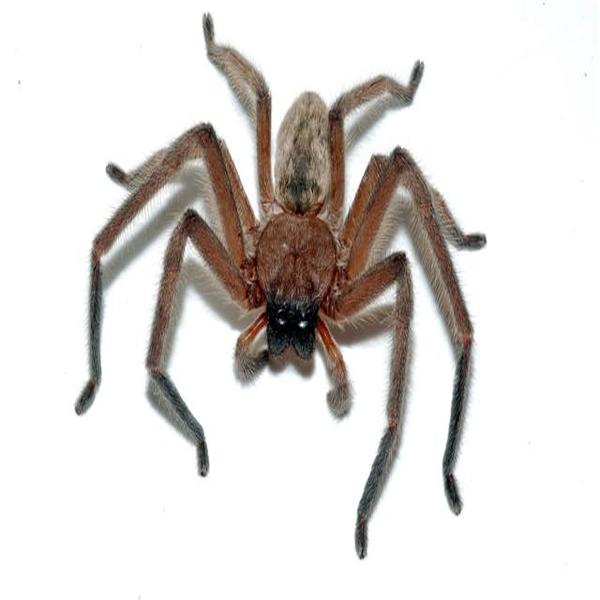Huntsman Spider: (78, 15, 491, 546)
